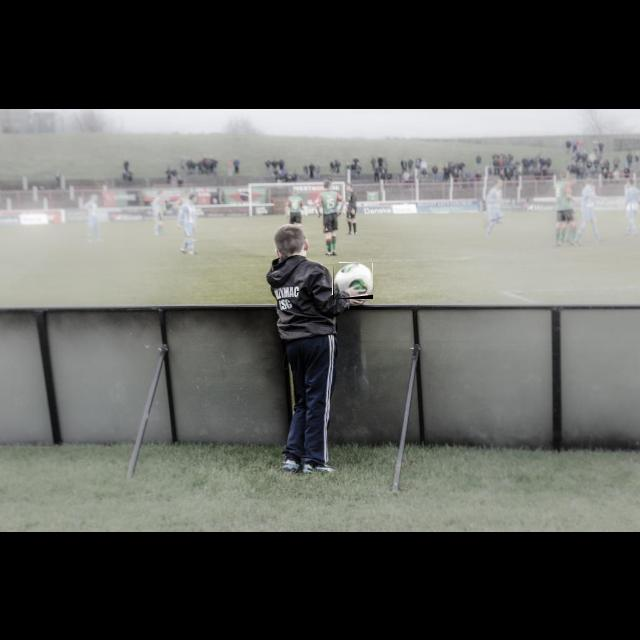Football: (333, 263, 373, 299)
